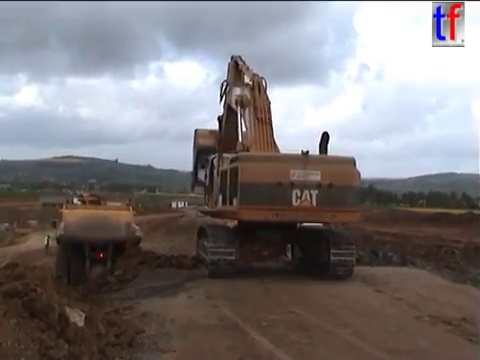excavator: (188, 52, 364, 278)
truck: (49, 199, 144, 287), (39, 194, 88, 209), (73, 193, 100, 207)
worker: (42, 233, 52, 256)
